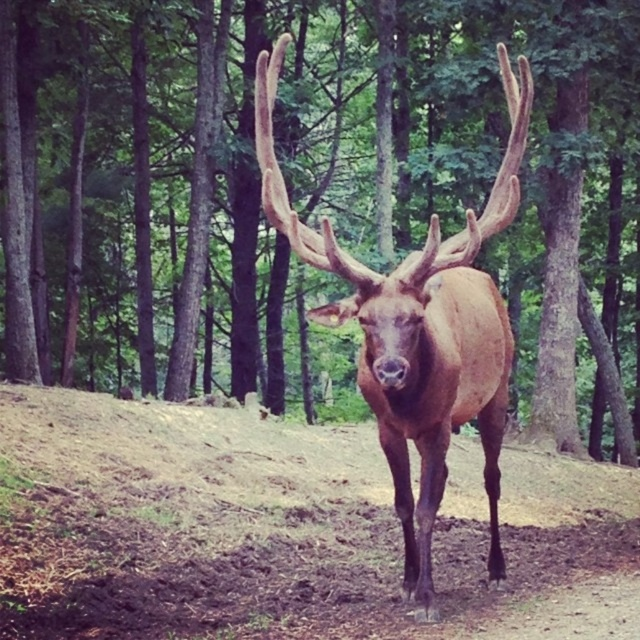Deer: (255, 33, 534, 625)
